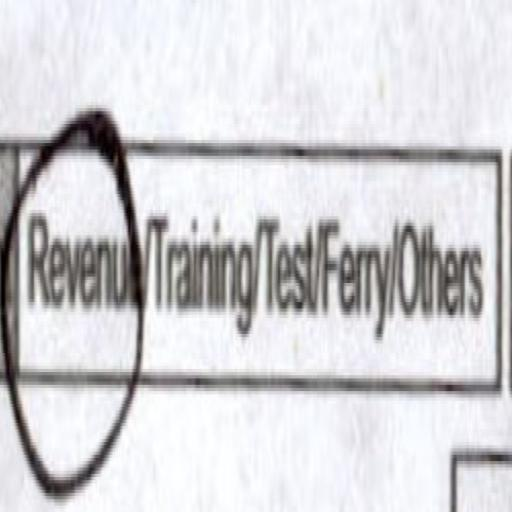check: (20, 90, 138, 490)
